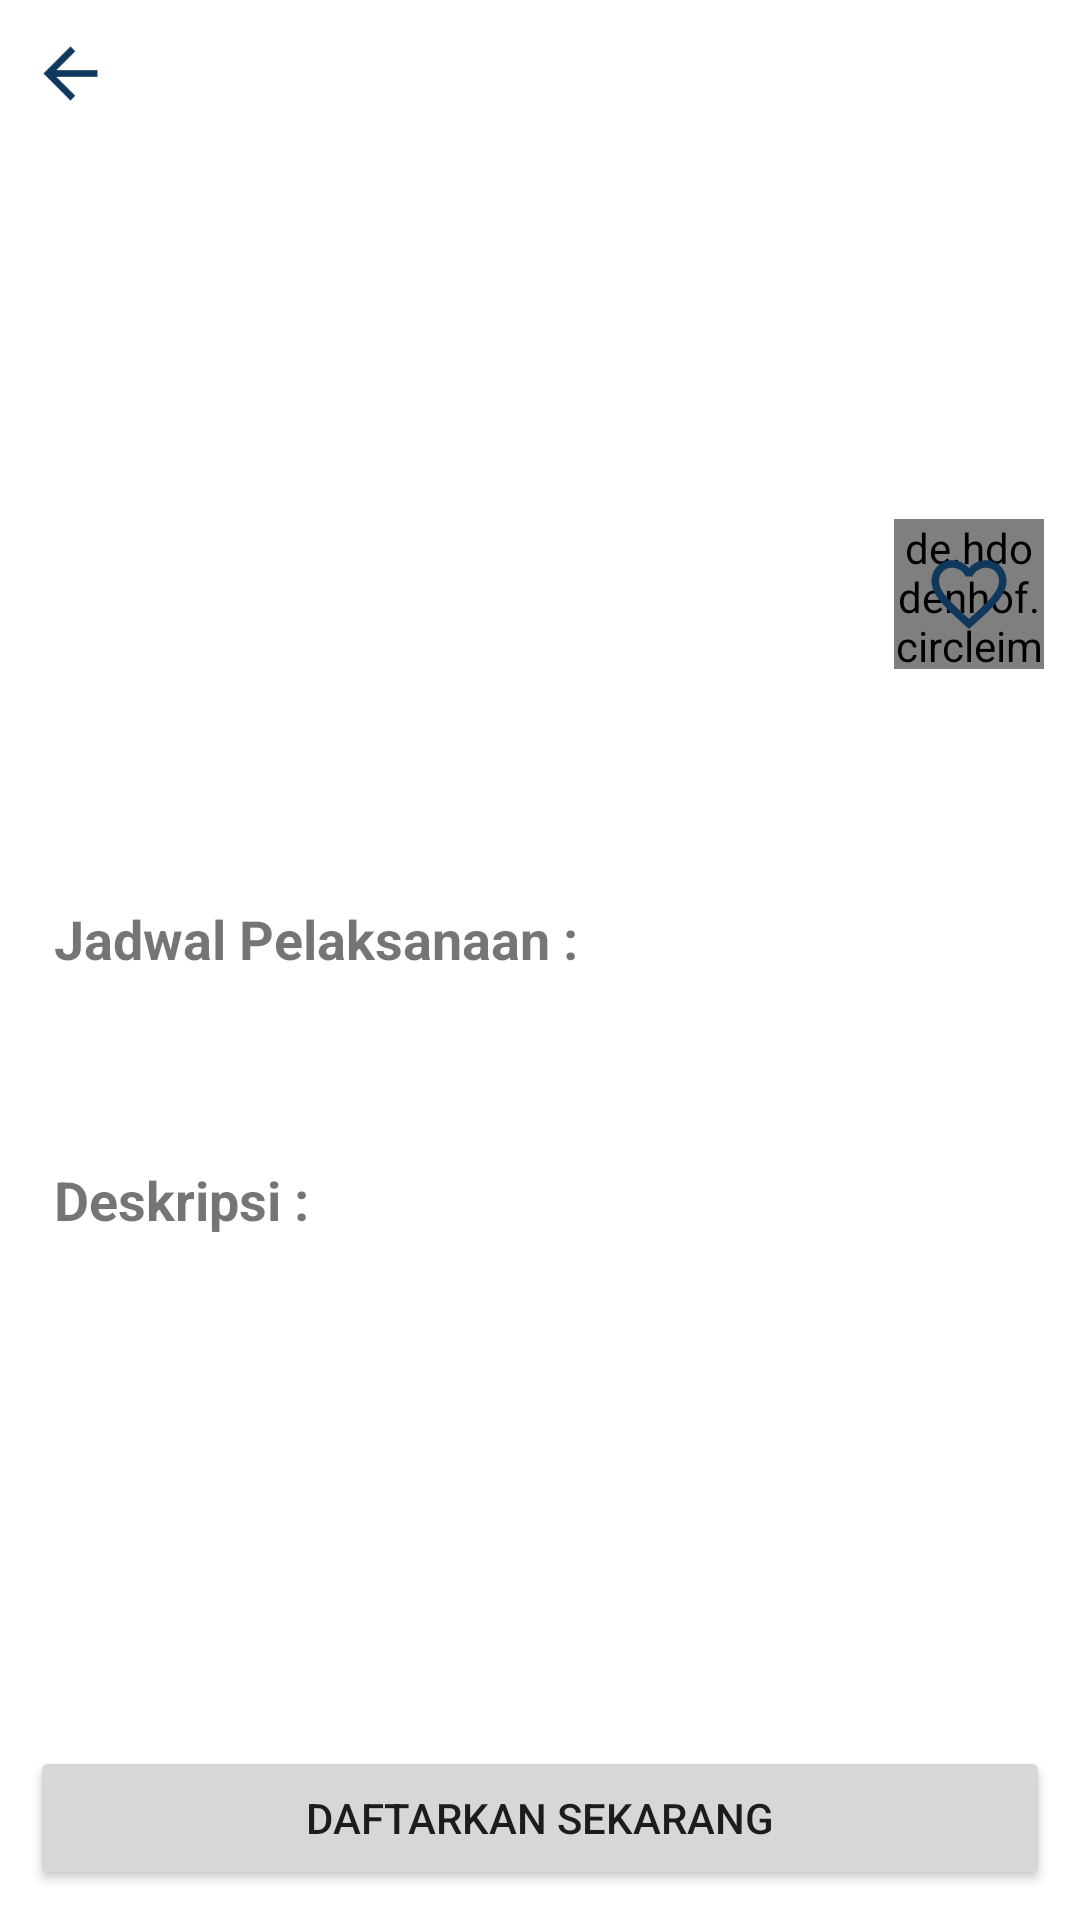

Point at icon controls on the screen. Image size 1080*1920, points as point (x, y).
back: point (70, 73)
favorite: point (969, 594)
